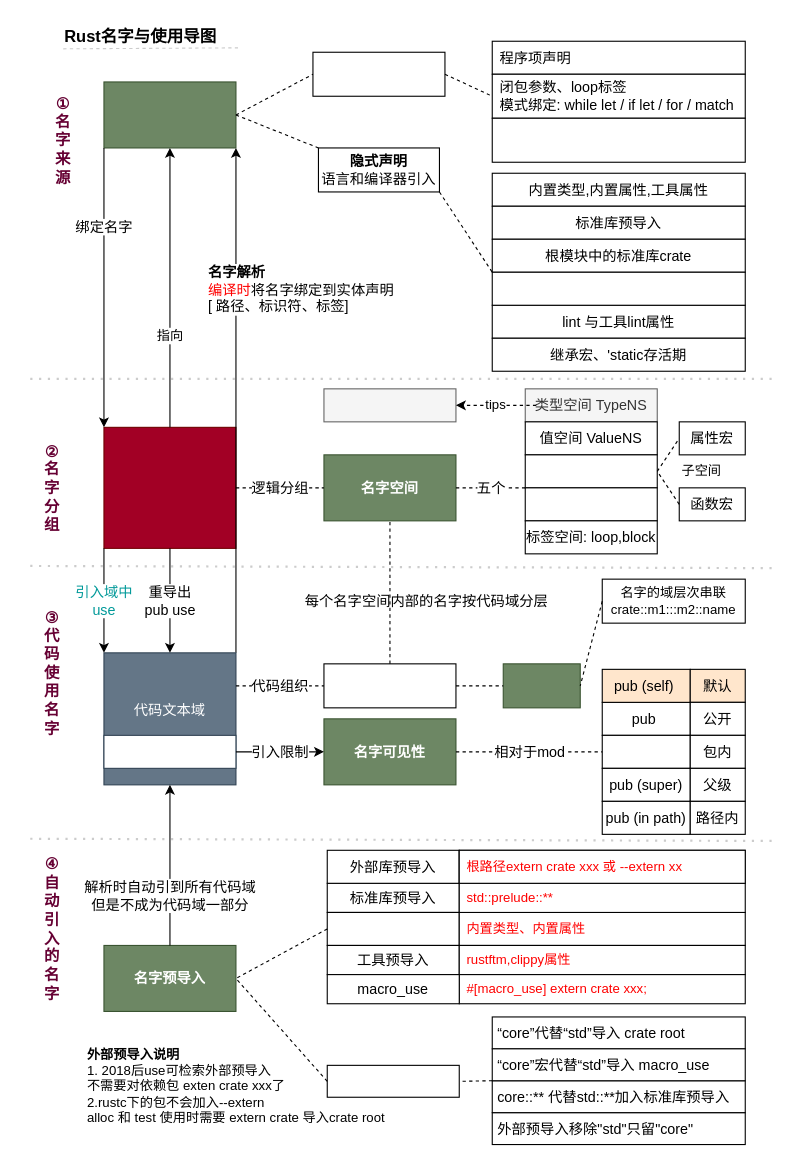
Some shapes in this 799 by 1164 pixel diagram are drawn without their labels. The centre of each missing label's shape, as x and y in pixels:
no_std: [392,1080]
pub (crate): [645,751]
use :: { x }: [389,405]
分层代码域: [389,685]
名字: [169,487]
名字路径: [541,685]
存活期空间: [590,504]
宏空间 MacroNS: [590,471]
实体声明: [169,114]
显式声明 源码中引入: [378,73]
泛型参数, 高阶约束, let绑定 macro_use, macro_export宏引入: [618,139]
用 " 路径" 调用 名字: [169,751]
编译器链接的外部库: [618,288]
语言预导入: [392,928]
